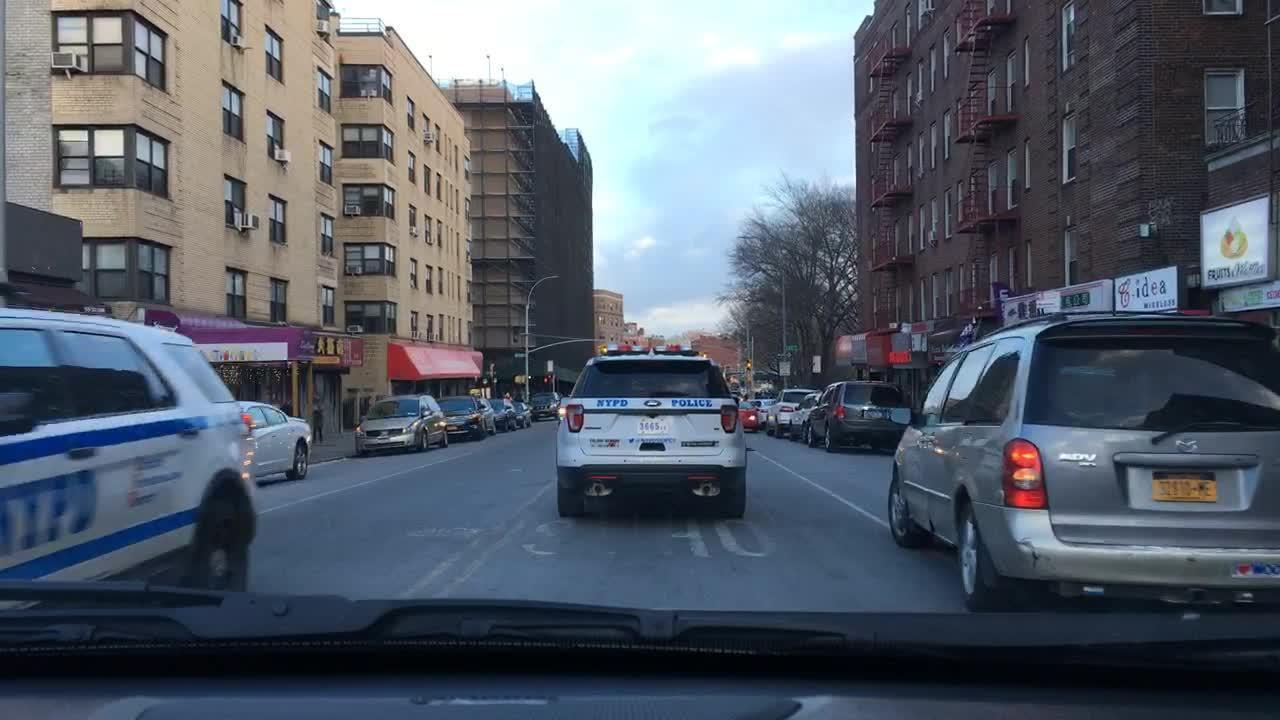Mazda: (1173, 426, 1204, 460)
ford: (642, 399, 665, 408)
